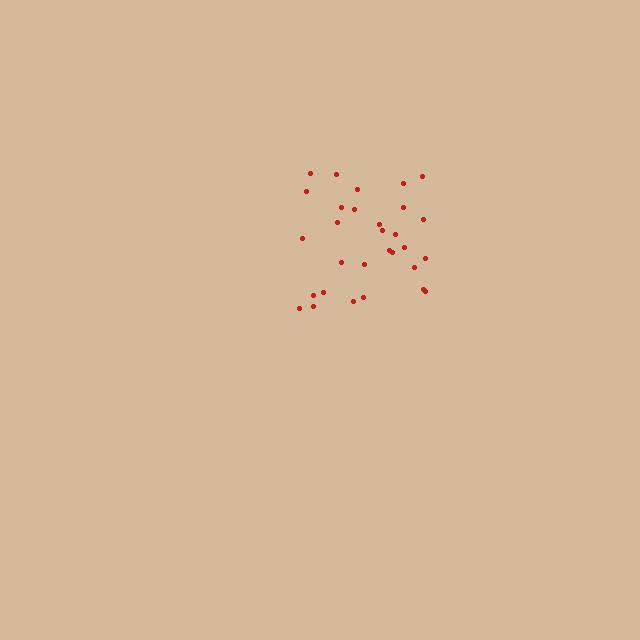abrasion: (298, 172, 426, 311)
